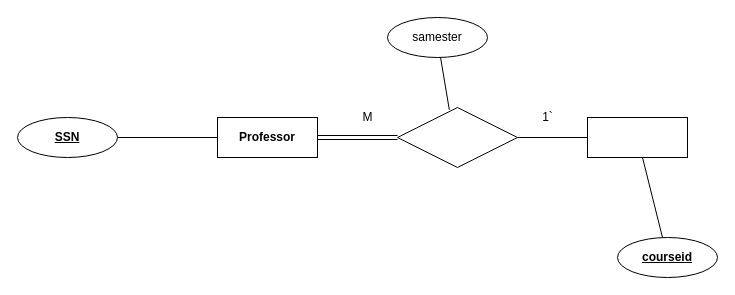
This 735x295 diagram has some shape labels left out. Each missing label, with the box of its shape:
Coures: (586, 116, 688, 158)
teaches: (396, 106, 518, 168)
